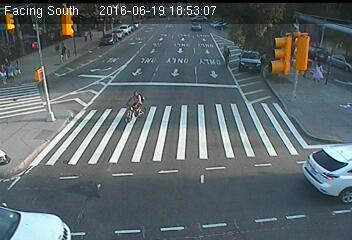neg: (116, 84, 149, 128), (232, 112, 261, 151), (165, 32, 194, 71), (291, 115, 319, 153), (92, 38, 114, 66), (126, 29, 143, 51)
pos: (311, 60, 331, 86), (58, 39, 75, 62), (12, 58, 27, 78), (75, 27, 87, 43)
